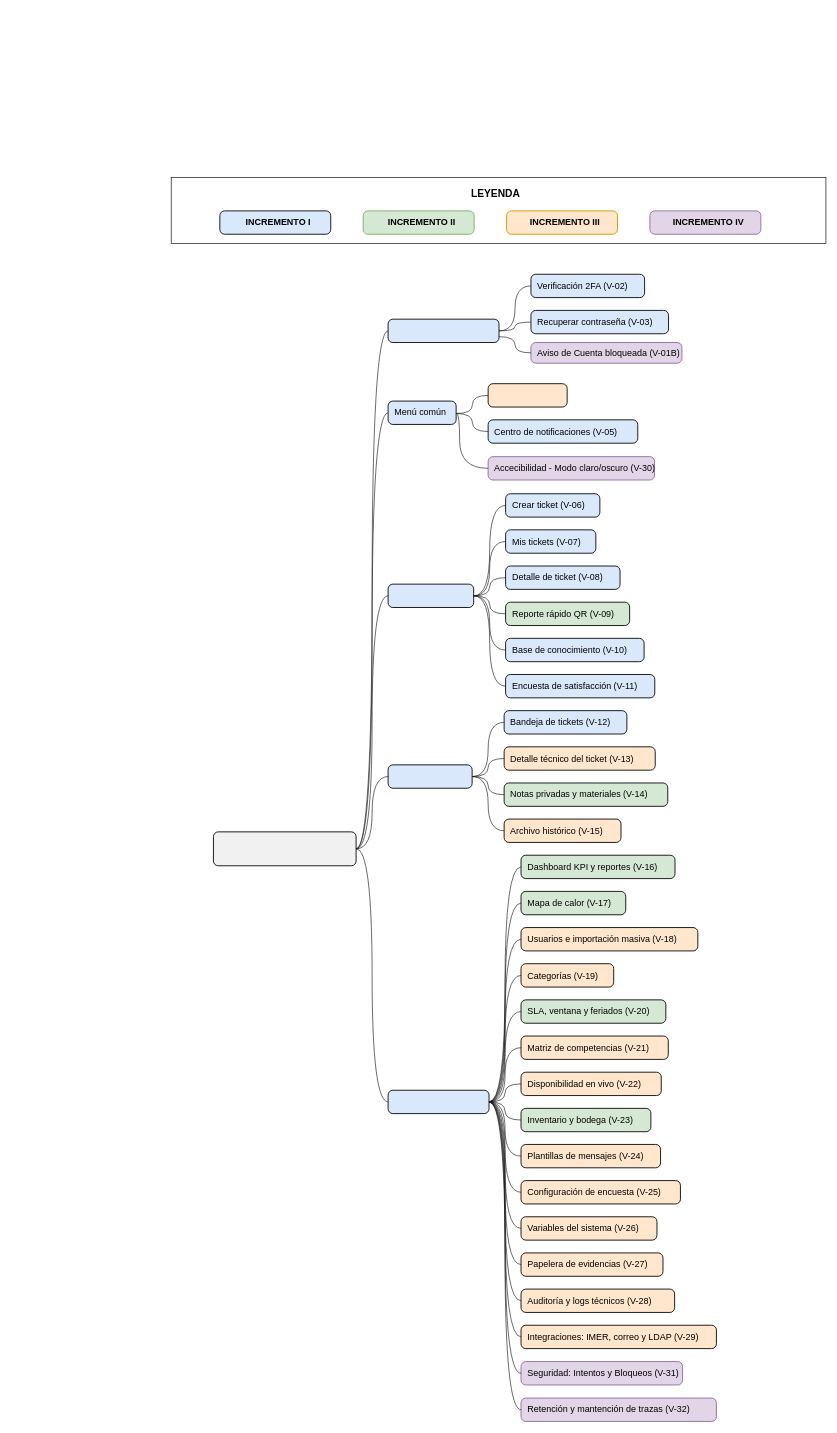
This 837x1433 diagram has some shape labels left out. Each missing label, with the centre of its shape:
"Consola Técnico" belongs at pixel 429 776.
"Inicio de sesión (V-01)" belongs at pixel 443 330.
"Mi Perfil (V-04)" belongs at pixel 527 395.
"Panel Administrador" belongs at pixel 438 1101.
"Portal Solicitante" belongs at pixel 430 595.
"Sistema de Gestión de Tickets Centro Clínico Aconcagua" belongs at pixel 284 848.
